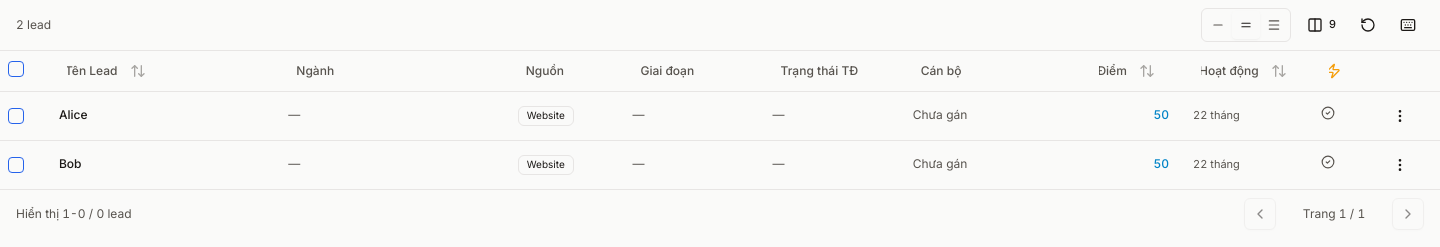
LeadsTable › should use lead.id as row identity, not array index
expect the text "Alice" is shown: met, box [59,107,88,122]
Click the checkbox named "select row" next to "Alice" at coordinates (16, 116), box [8,108,24,124]
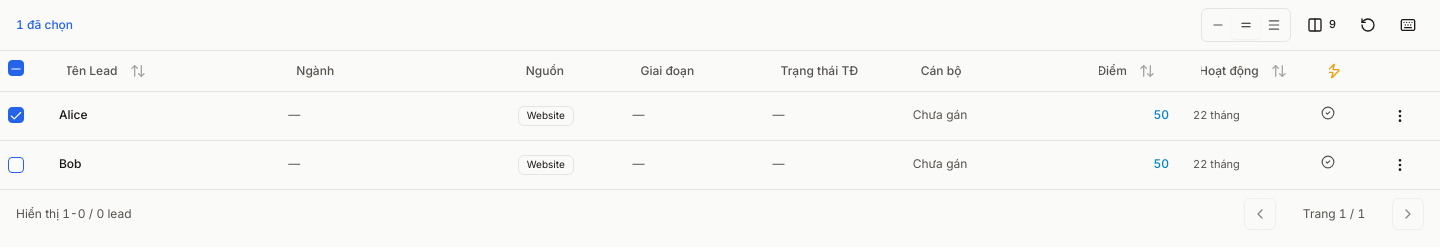
expect the text "1 đã chọn" is shown: met, box [16,17,73,32]
